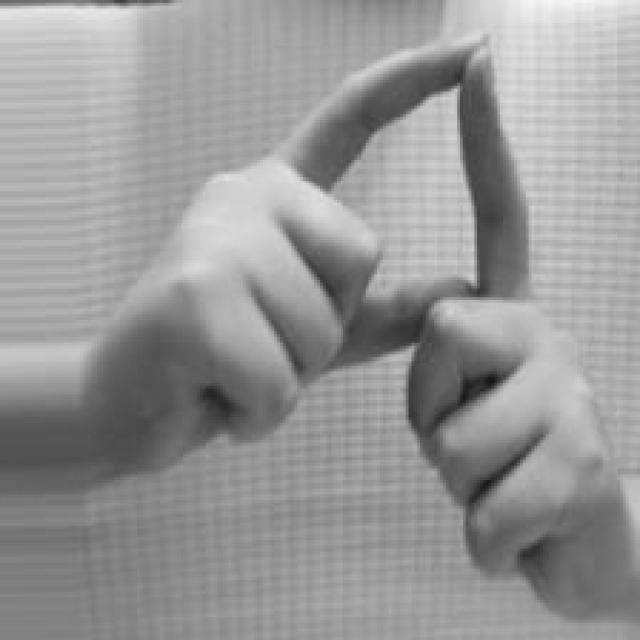D: (103, 23, 640, 623)
